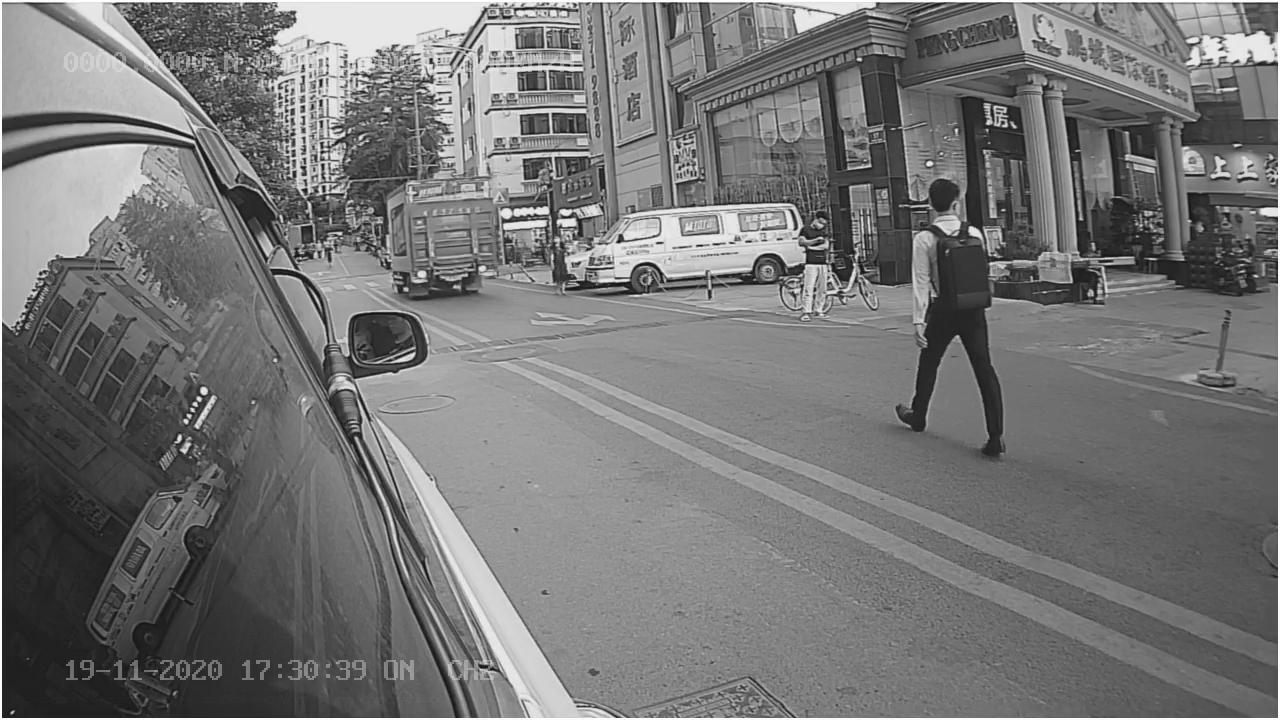person: (896, 171, 1006, 453)
